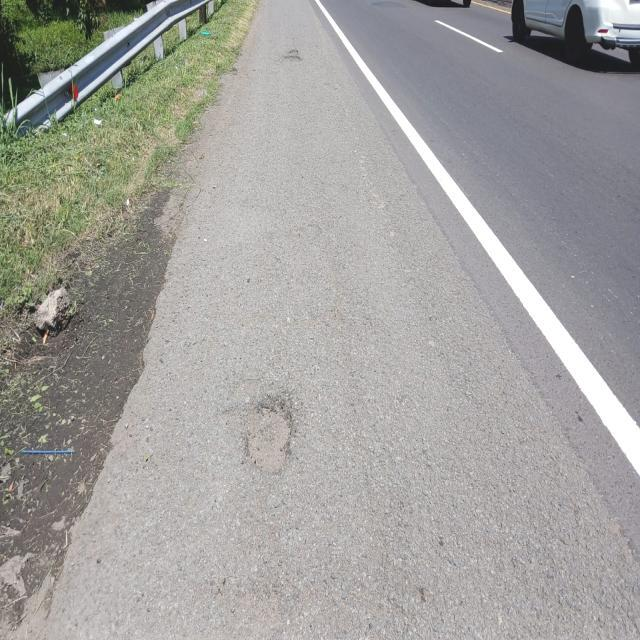Buraco: (242, 392, 298, 478), (282, 55, 303, 63), (286, 49, 300, 56)
